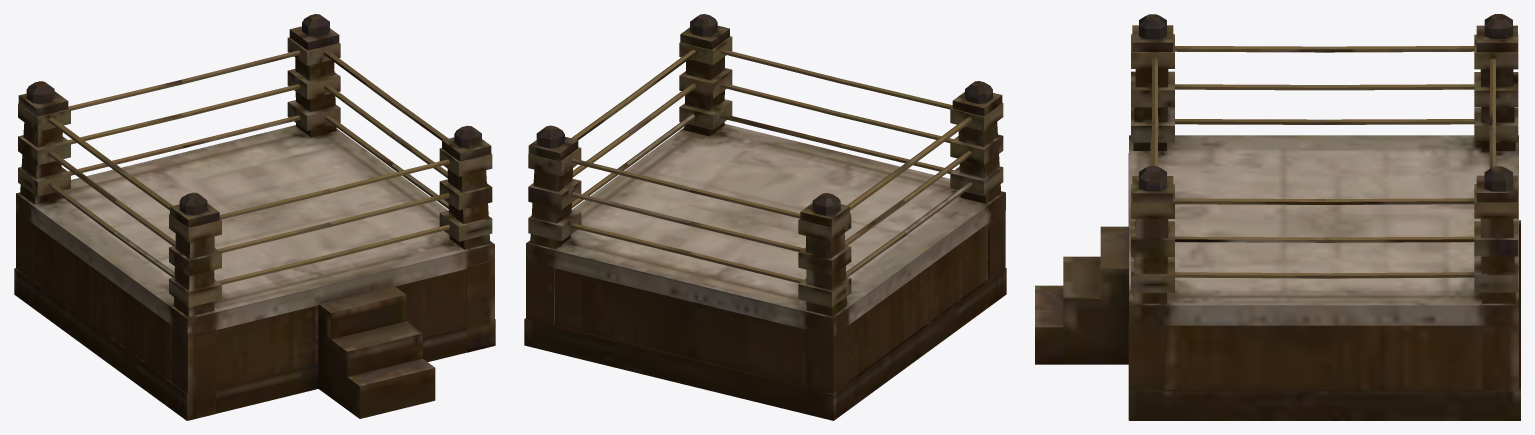
The model's file is ring.glb.
3 views of the same model, side by side, from view 1: azimuth 30°, elevation 25°; view 2: azimuth 150°, elevation 25°; view 3: azimuth 270°, elevation 25° (orthographic). The views are drawn at different scales.
Parts seen in each view (by area): view 1: 1890s Wrestling Ring (light); view 2: 1890s Wrestling Ring (light); view 3: 1890s Wrestling Ring (light).
Part boxes in pixels (<box>): 1890s Wrestling Ring (light): <box>14,14,495,420</box>; 1890s Wrestling Ring (light): <box>524,14,1006,420</box>; 1890s Wrestling Ring (light): <box>1035,14,1520,420</box>.
Bounding box in the file's own units: 4.33 × 2.86 × 5.2.
Materials: 1 (1 with a texture image).
